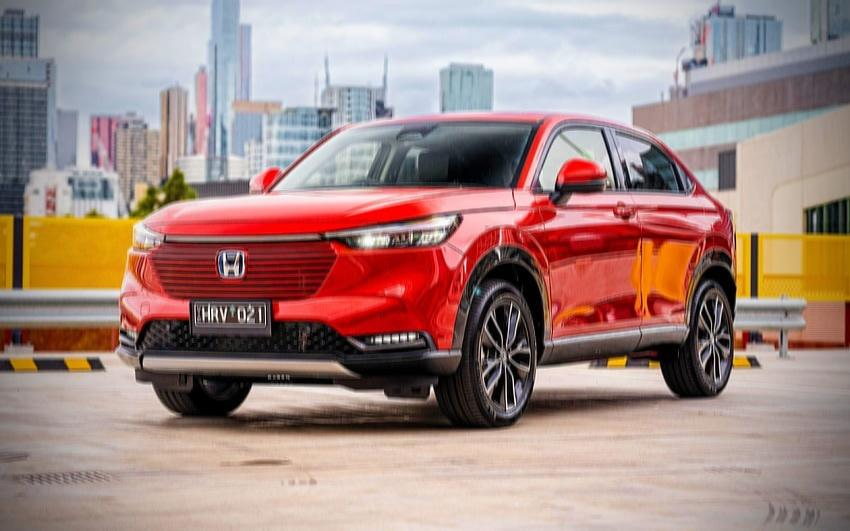Car hood: (143, 187, 520, 234)
Fender - -F-L-: (428, 172, 559, 281)
Fender - -R-L-: (680, 186, 735, 310)
Front bumper: (108, 243, 474, 392)
Headlight - -L-: (322, 208, 464, 252)
Headlight - -R-: (130, 222, 166, 252)
Passenger-s door - -F-L-: (530, 116, 649, 369)
Passenger-s door - -R-L-: (596, 113, 701, 366)
Side bumper - -L-: (537, 308, 695, 396)
Side mirror - -L-: (544, 155, 612, 205)
Side mirror - -R-: (243, 164, 283, 196)
